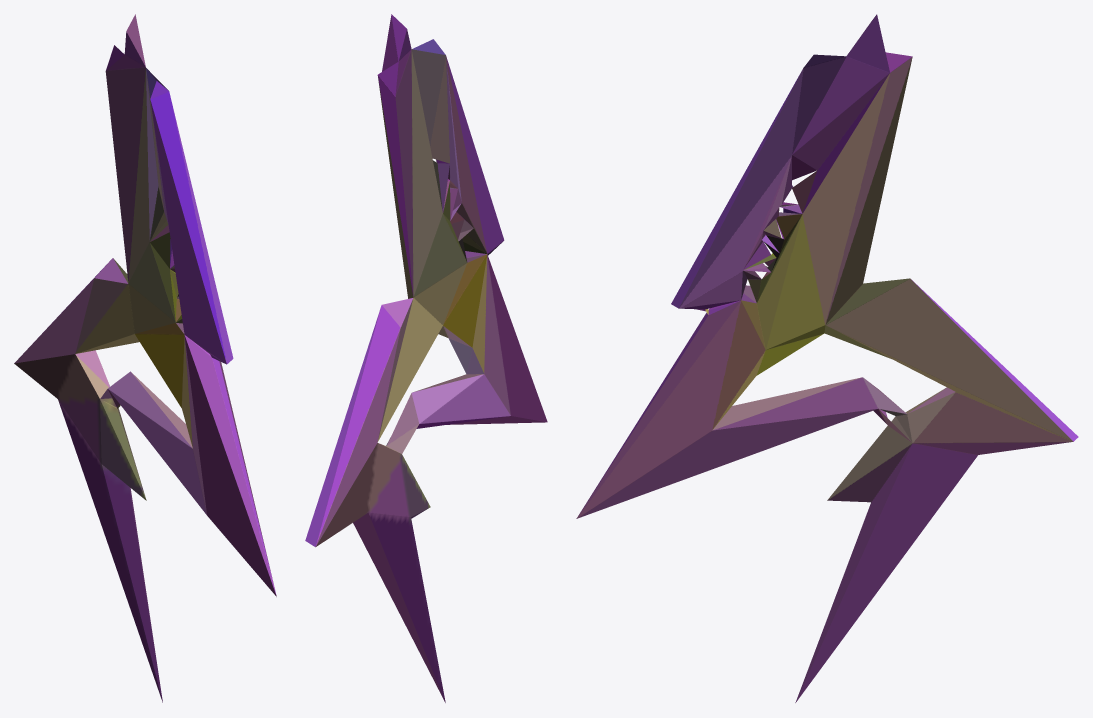
Rendered from lightning.fbx.
The picture shows the model from 3 angles, left to right: view 1: azimuth 30°, elevation 25°; view 2: azimuth 150°, elevation 25°; view 3: azimuth 270°, elevation 25°; orthographic projection. The views are drawn at different scales.
Parts seen in each view (by area): view 1: Mesh_0; view 2: Mesh_0; view 3: Mesh_0.
Boxes of the visible parts, left/top/right/bottom form: Mesh_0: left=14, top=14, right=276, bottom=702; Mesh_0: left=305, top=14, right=547, bottom=702; Mesh_0: left=576, top=14, right=1078, bottom=702.
Size of the model in its own units: 7.54 by 117 by 76.73.
Materials: 1 (1 with a texture image).
